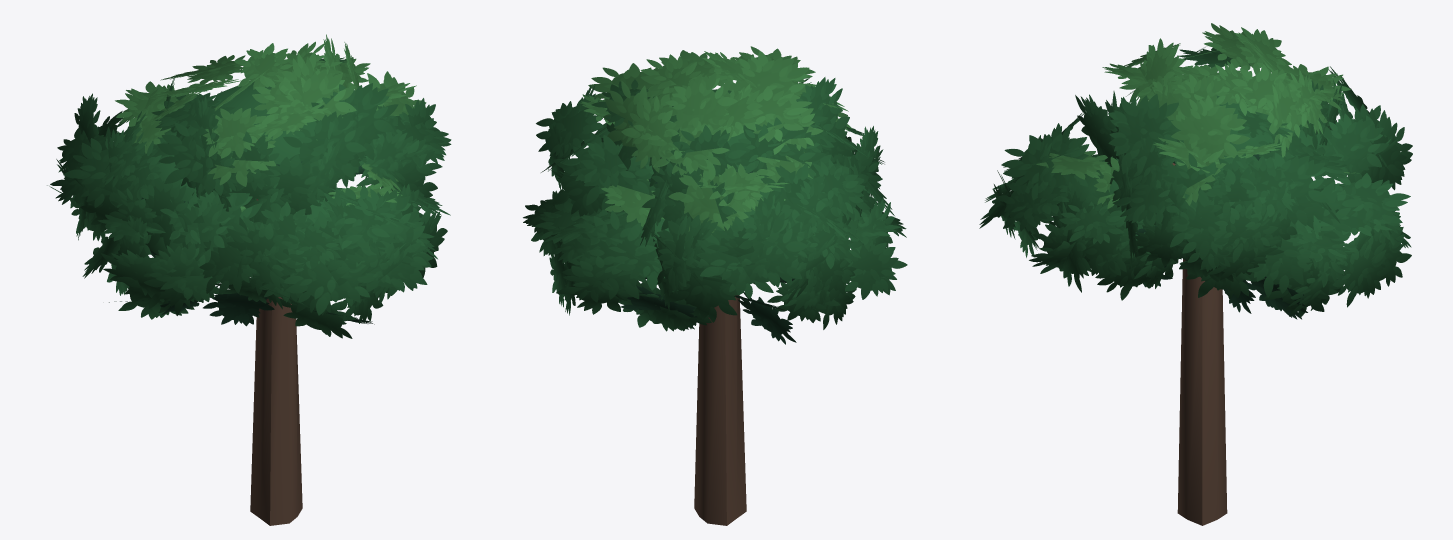
File: tree_round_b.glb
3 views of the same model, side by side, from view 1: azimuth 30°, elevation 25°; view 2: azimuth 150°, elevation 25°; view 3: azimuth 270°, elevation 25° (orthographic).
Visible parts, largest first — view 1: body; view 2: body; view 3: body.
Boxes of the visible parts, x1=… form: body: x1=47, y1=34, x2=451, y2=525; body: x1=523, y1=46, x2=907, y2=525; body: x1=979, y1=23, x2=1412, y2=525.
Size of the model in its own units: 3.6 by 4.4 by 3.82.
Materials: 2 (1 with a texture image).
